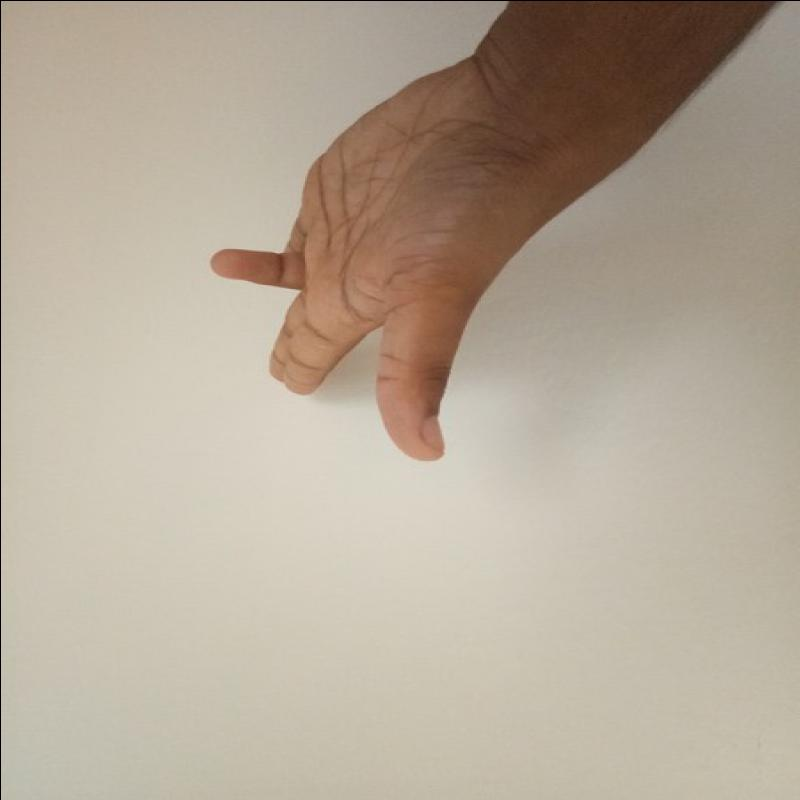Pathaaka: (199, 58, 532, 468)
